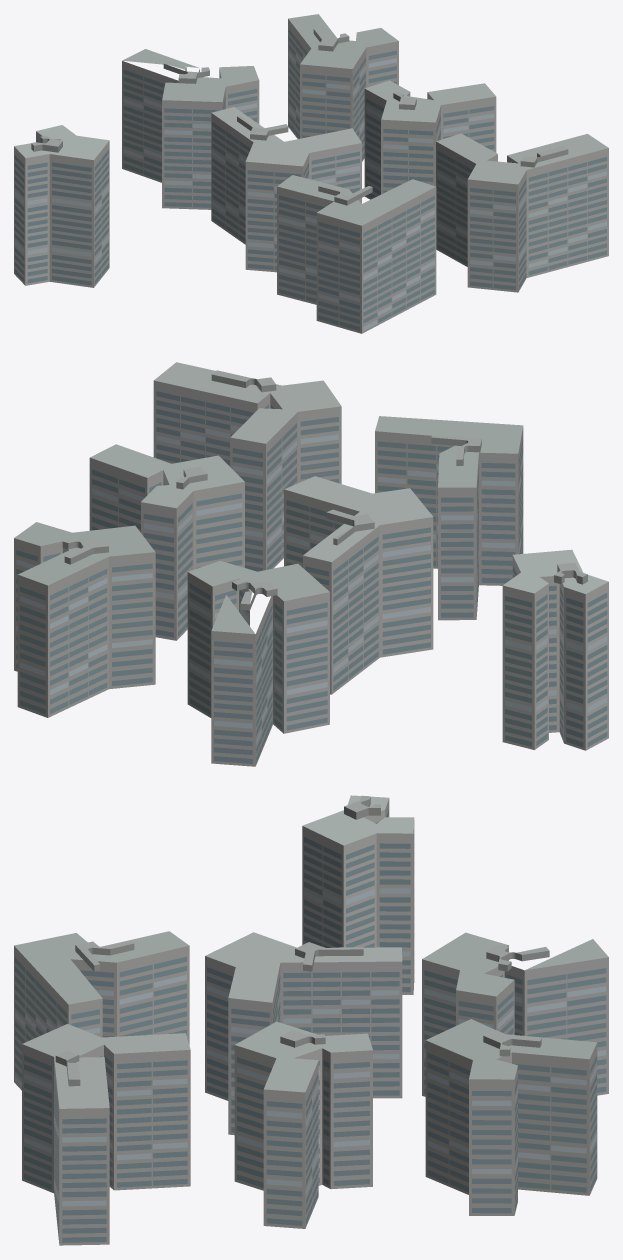
The model's file is apt-a12201002.glb.
3 renders of one model, top to bottom at view 1: azimuth 30°, elevation 25°; view 2: azimuth 150°, elevation 25°; view 3: azimuth 270°, elevation 25°, orthographic. The views are drawn at different scales.
Parts seen in each view (by area): view 1: apt-a12201002; view 2: apt-a12201002; view 3: apt-a12201002.
Boxes of the visible parts, left/top/right/bottom form: apt-a12201002: left=14, top=14, right=608, bottom=333; apt-a12201002: left=14, top=362, right=608, bottom=766; apt-a12201002: left=14, top=795, right=608, bottom=1245.
Bounding box in the file's own units: 190 × 52 × 166.
